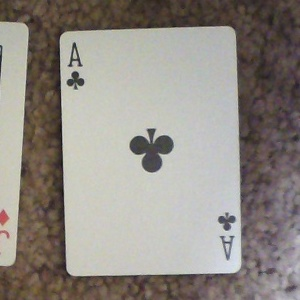card: (56, 25, 243, 275)
